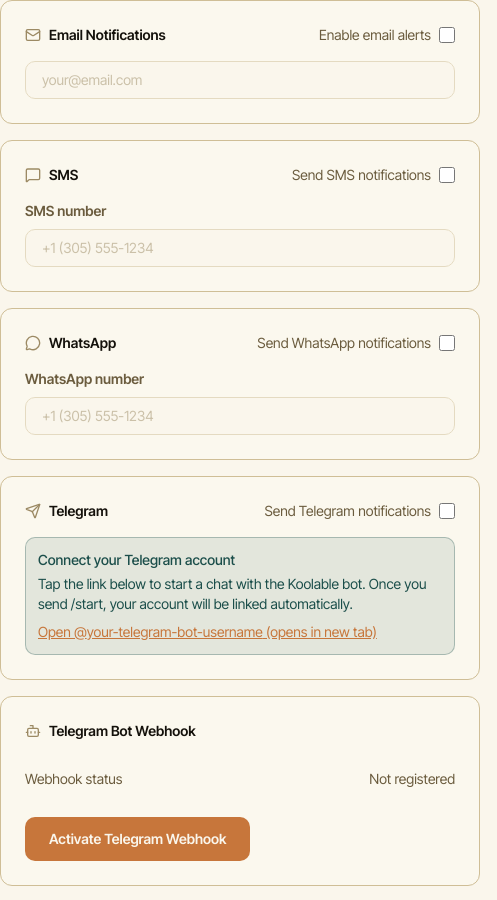
Test: NotificationSettingsForm webhook card › button shows loading state and is disabled when clicked (mock activateTelegramWebhook to pend indefinitely)
Step 1. Click the button "Activate Telegram Webhook" → point(138, 839), box [25,817,250,861]
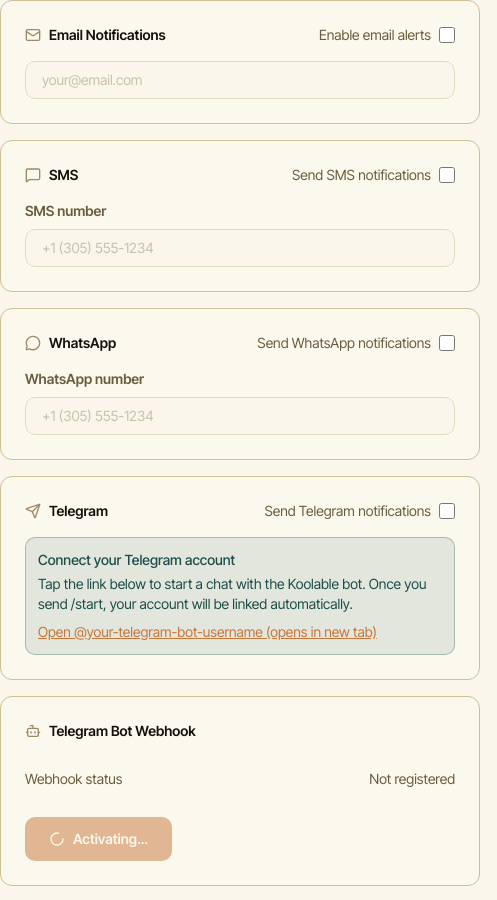
Expected: the button named "activate telegram webhook" is disabled, [25,817,172,861]
